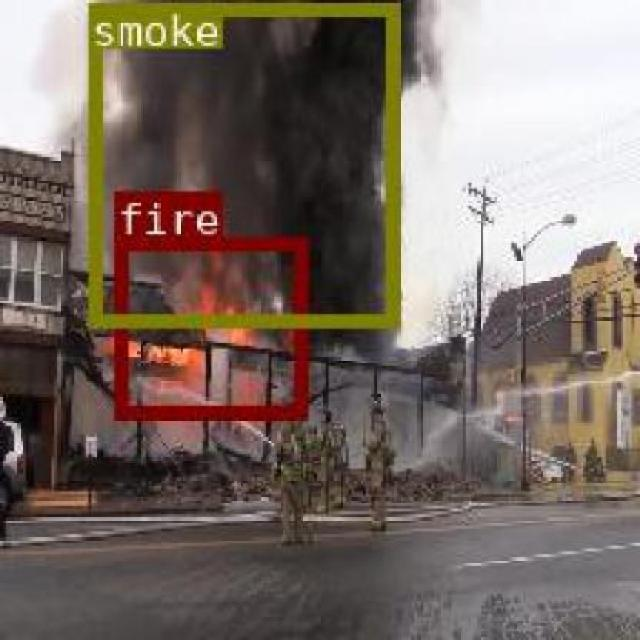CIV_Plane: (112, 234, 306, 416)
Fire: (112, 234, 306, 416)
Smoke: (87, 0, 395, 260)
